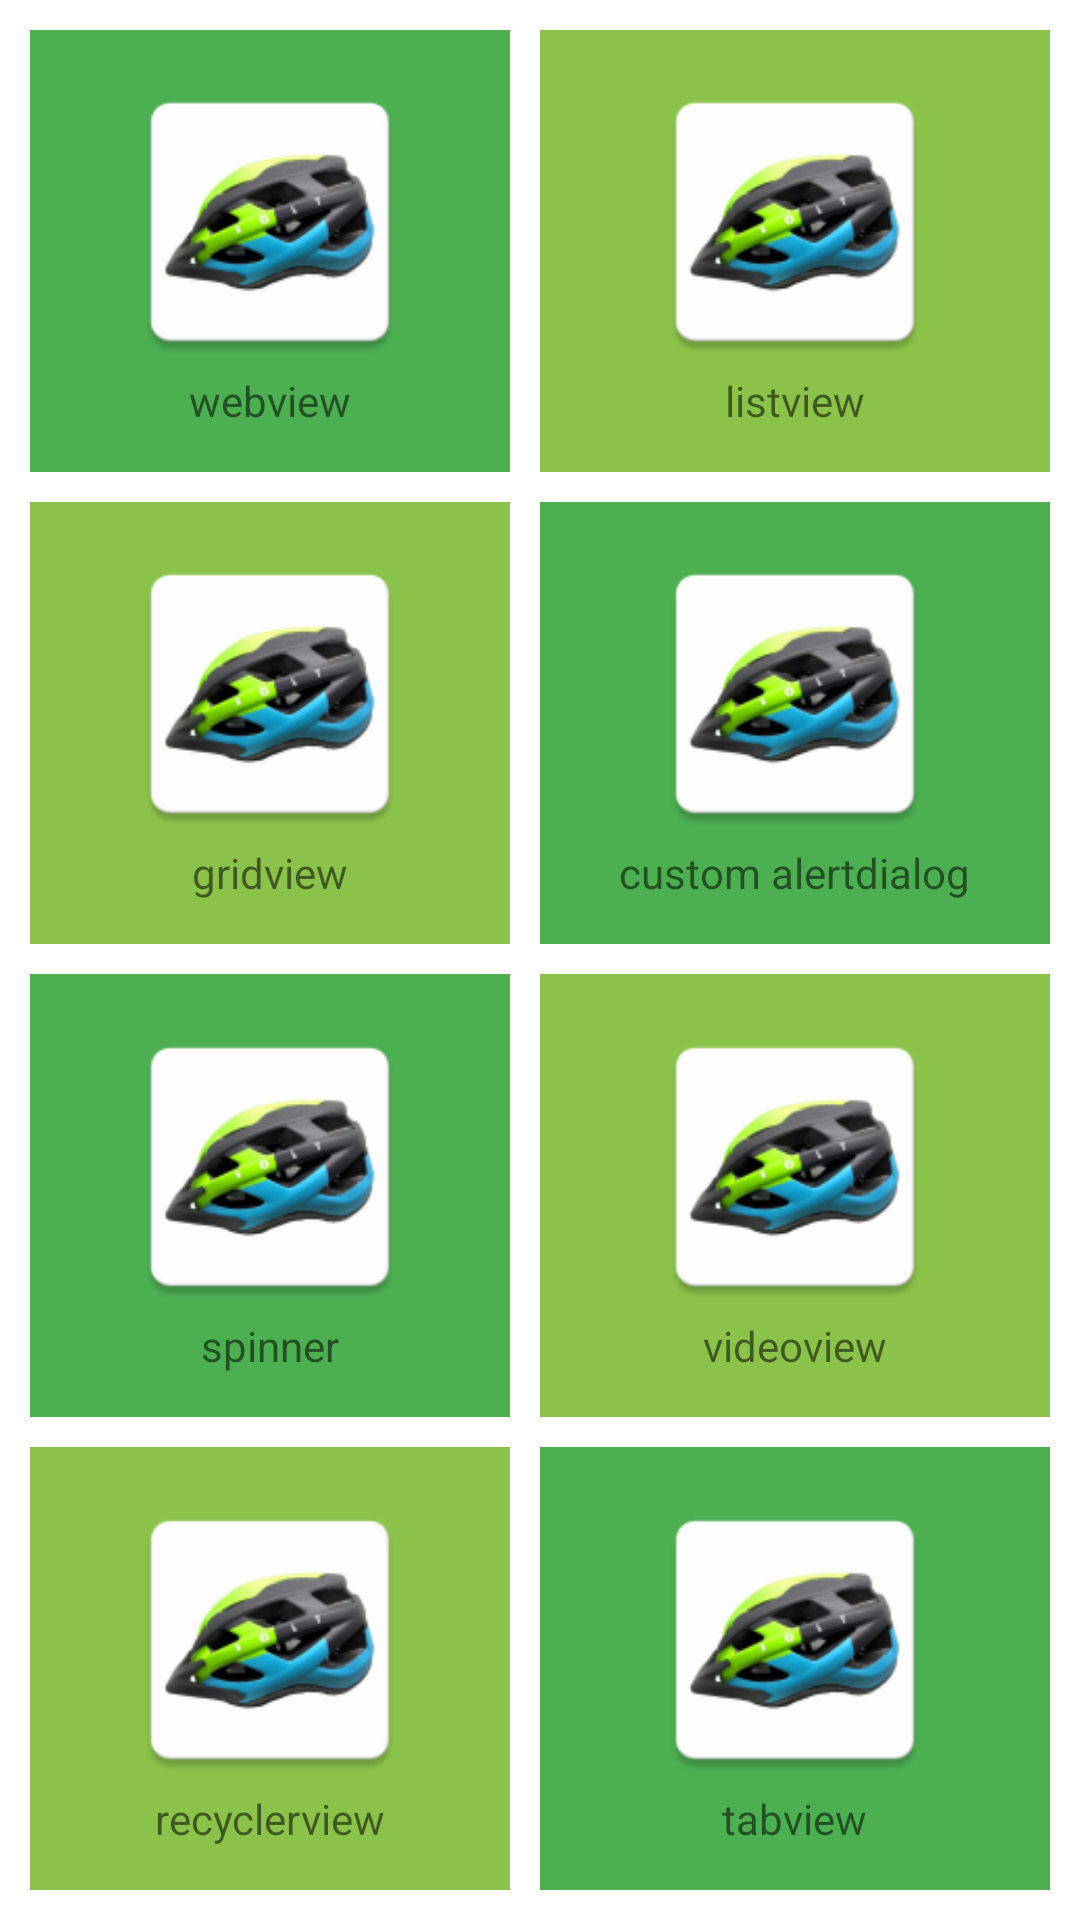

Screen size 1080px x 1920px. Icon name, then its box in pixels as (x1, y1, x2, y2):
helm: (150, 102, 390, 347), (675, 102, 915, 347), (150, 574, 390, 819), (675, 574, 915, 819), (150, 1047, 390, 1292), (675, 1047, 915, 1292), (150, 1520, 390, 1765), (675, 1520, 915, 1765)
